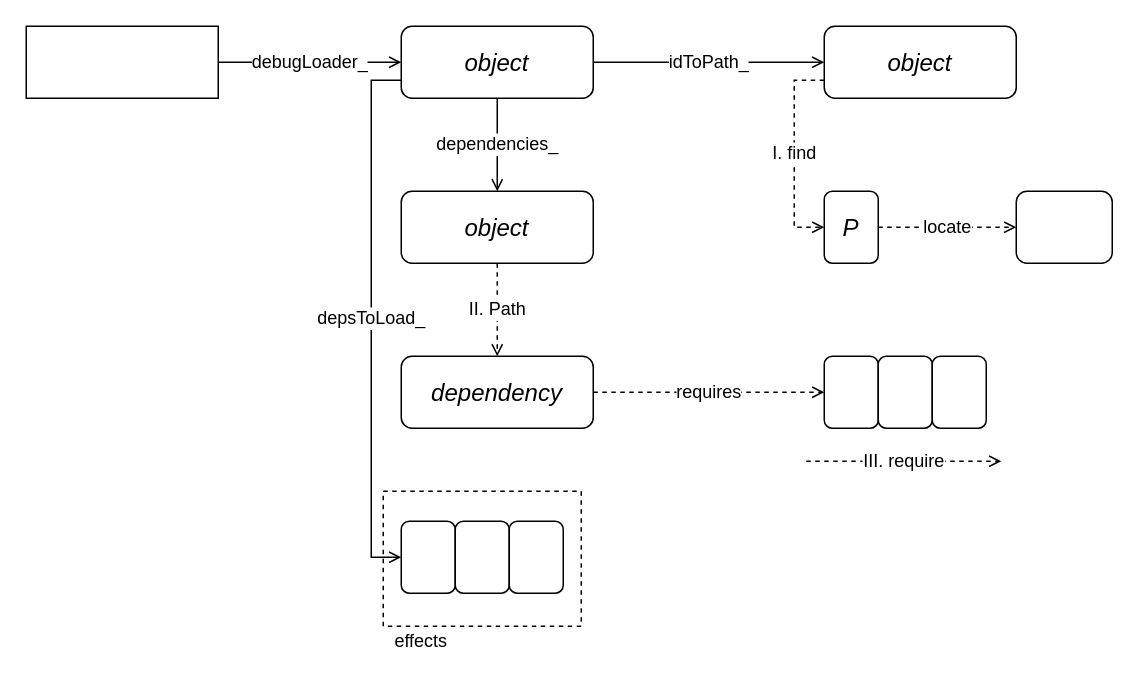
Image size: 1139x683. Some labels were removed from this diagram. Each missing label, with the centre of its shape:
goog: (x=121, y=61)
Path: (x=1063, y=226)
